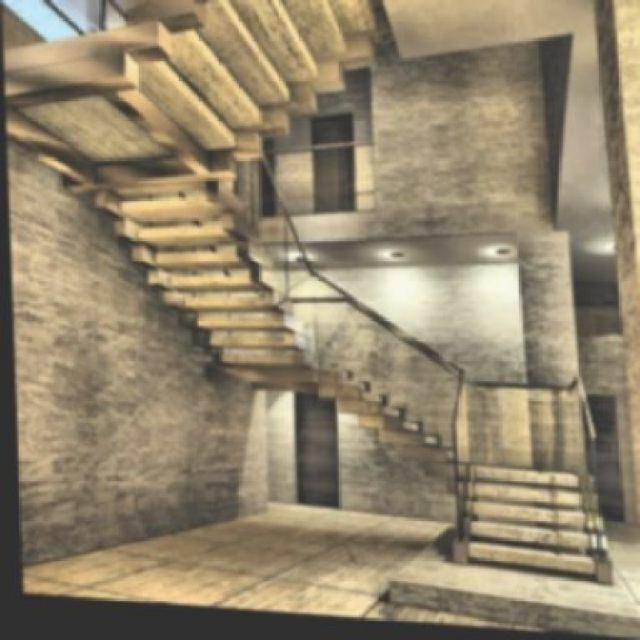stair: (449, 455, 602, 571)
